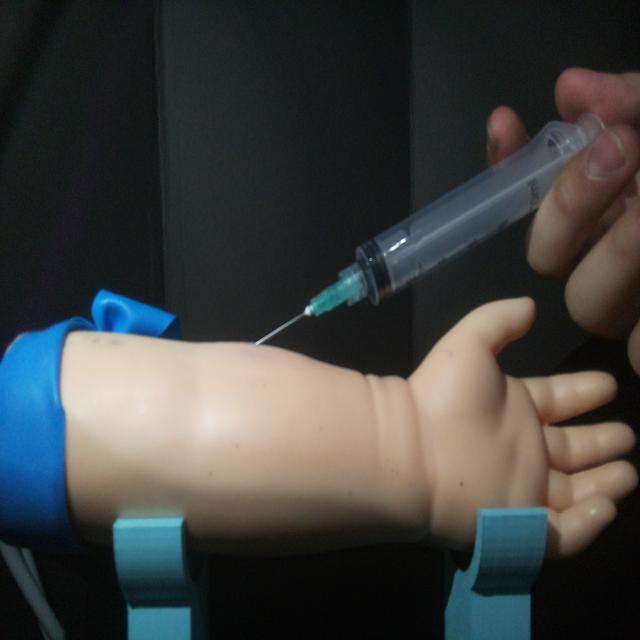26deg: (249, 106, 609, 350)
